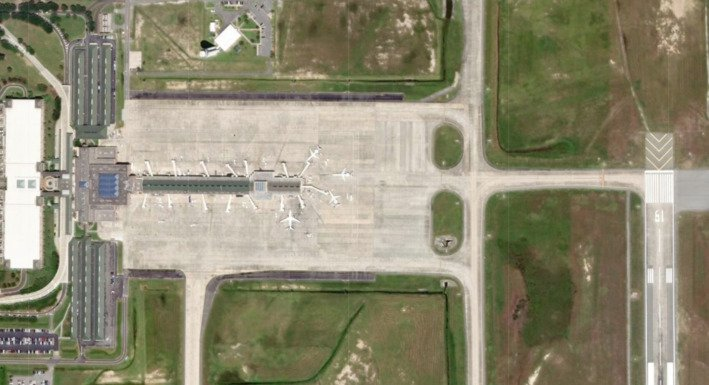w: (279, 209, 302, 230), (306, 144, 323, 163), (333, 165, 351, 182), (329, 189, 340, 209)
